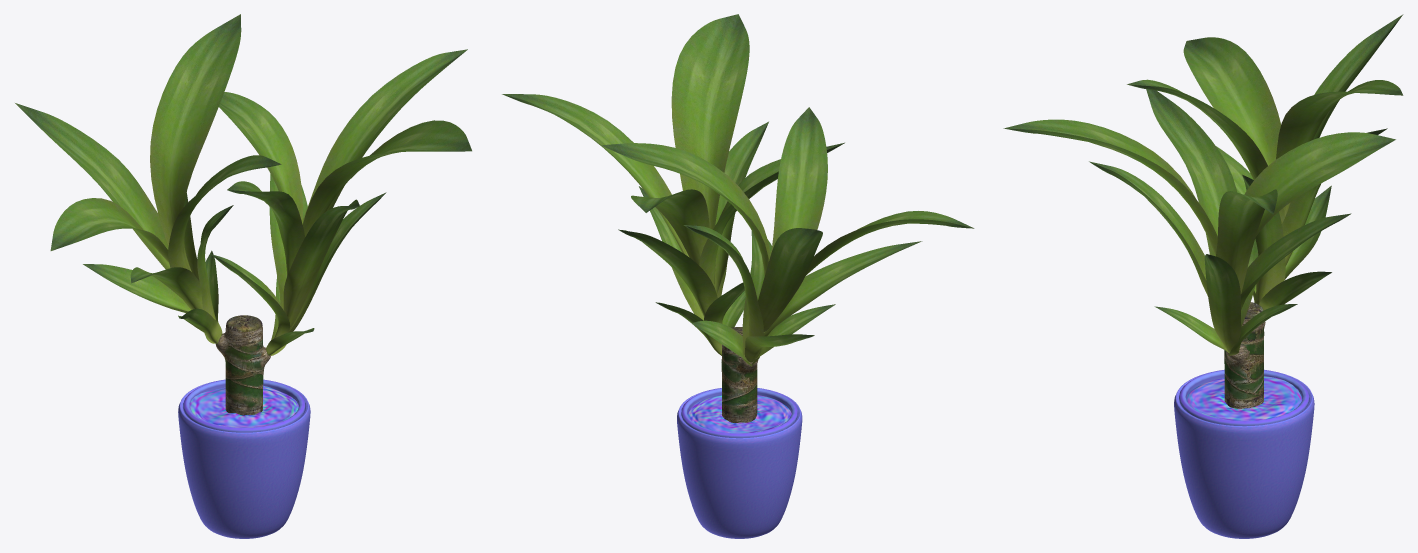
The model's file is plant.obj.
The picture shows the model from 3 angles, left to right: view 1: azimuth 30°, elevation 25°; view 2: azimuth 150°, elevation 25°; view 3: azimuth 270°, elevation 25°; orthographic projection. The views are drawn at different scales.
Visible parts, largest first — view 1: indoor_plant_02; view 2: indoor_plant_02; view 3: indoor_plant_02.
Part boxes in pixels (bbox=[...]): indoor_plant_02: bbox=[15, 14, 471, 538]; indoor_plant_02: bbox=[502, 14, 974, 538]; indoor_plant_02: bbox=[1003, 14, 1403, 538].
Bounding box in the file's own units: 6.82 × 6.22 × 4.86.
Materials: 6 (6 with a texture image).
